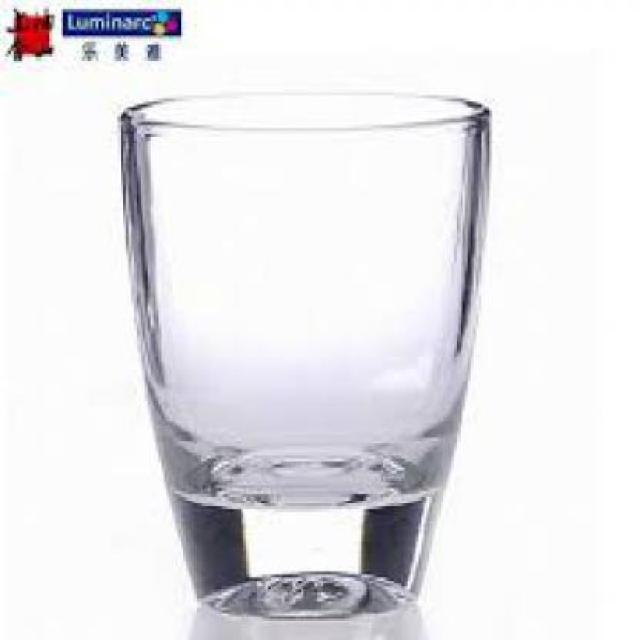kaca: (115, 92, 488, 618)
